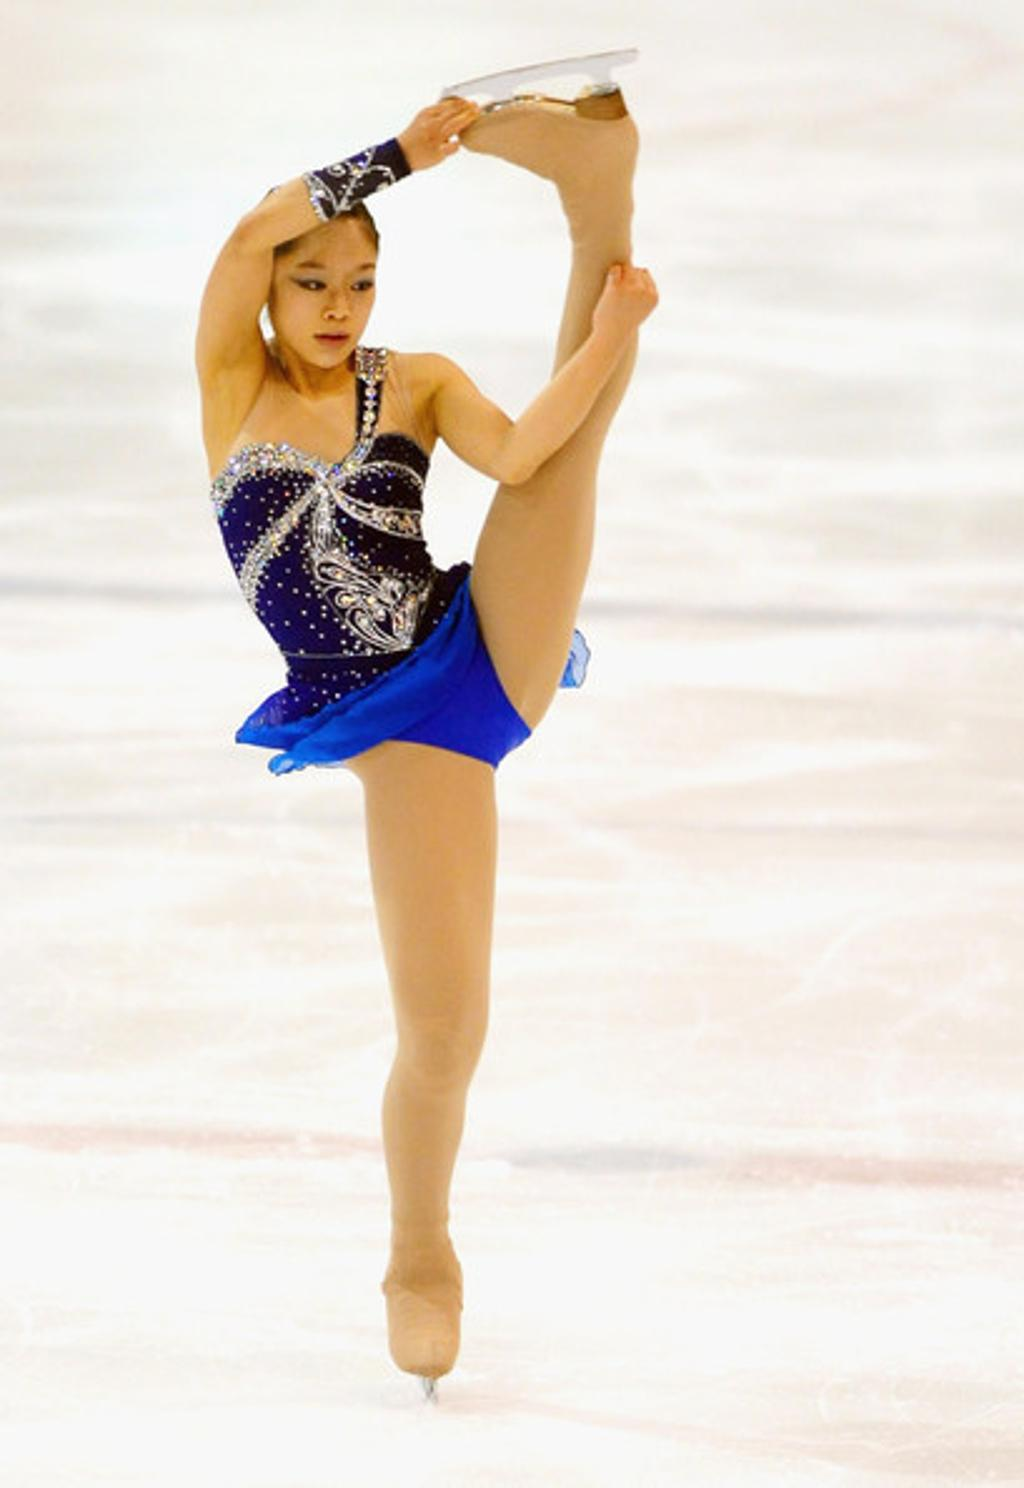face: (271, 213, 375, 370)
